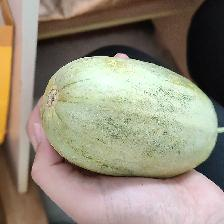gua: (54, 64, 210, 167)
